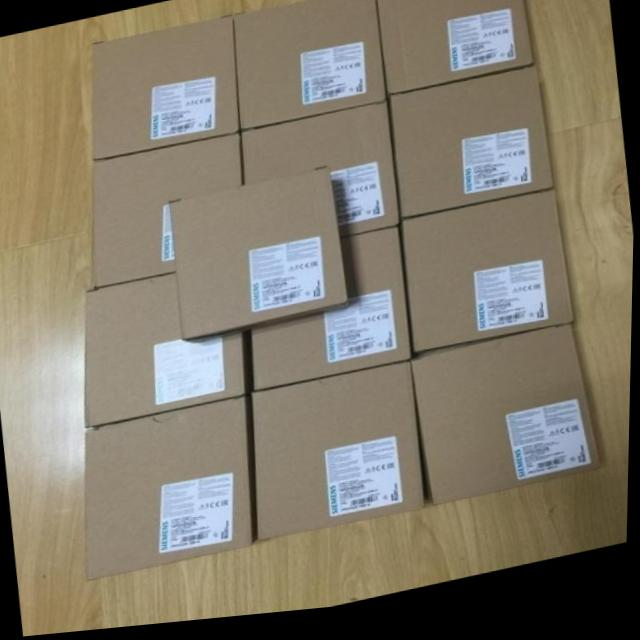box: (412, 333, 599, 515), (167, 169, 350, 344), (87, 399, 256, 582), (255, 368, 427, 545), (402, 200, 576, 361), (248, 232, 413, 398), (389, 73, 553, 227), (87, 276, 247, 431), (91, 136, 243, 291), (88, 20, 240, 163), (241, 109, 401, 244), (231, 0, 386, 136), (373, 0, 532, 103)
